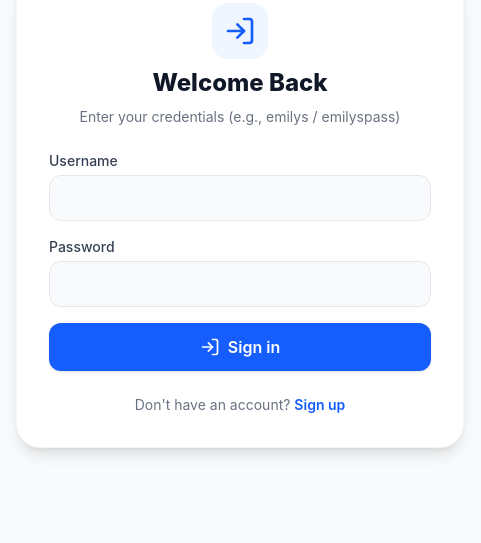
Test case: AuthPage › Sign in › should clear the general error when the user starts typing
The image size is (481, 543).
Click the button "Sign in" at (240, 347), box [49, 323, 431, 371]
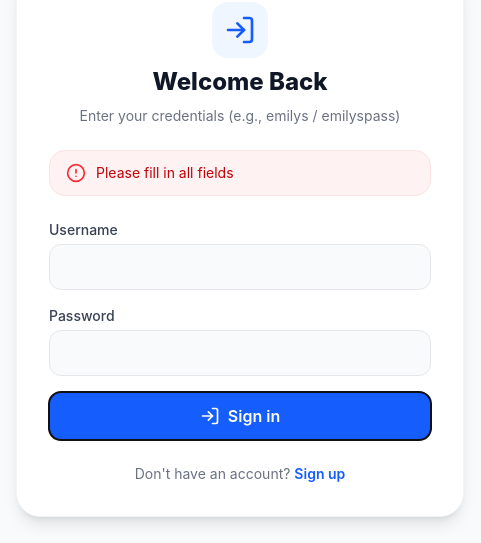
Type "e" into the field labelled "Username" at (240, 267), box [49, 244, 431, 290]
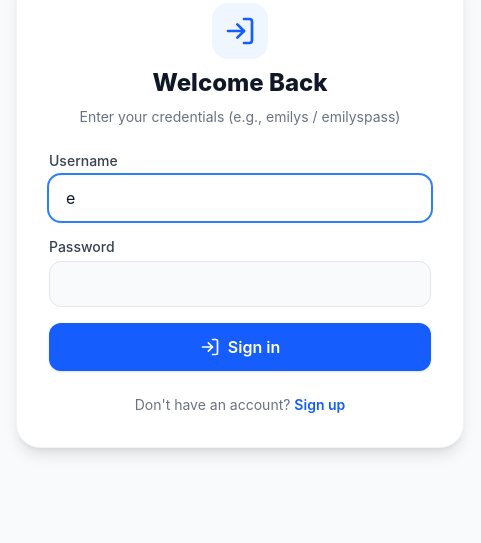
Now the message "Please fill in all fields" is gone
